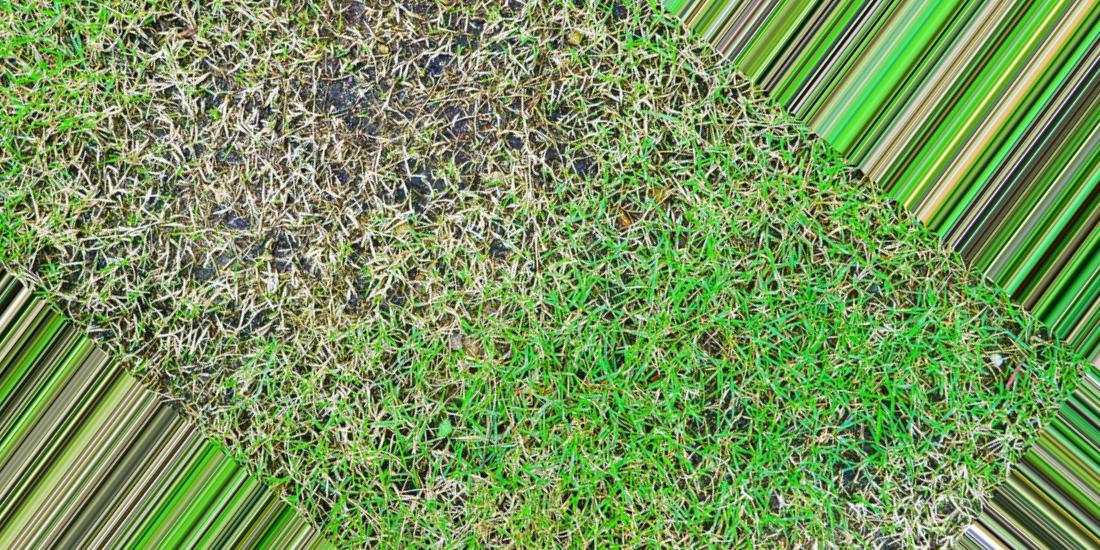patch: (289, 47, 576, 216), (164, 76, 251, 160), (172, 185, 278, 231)
